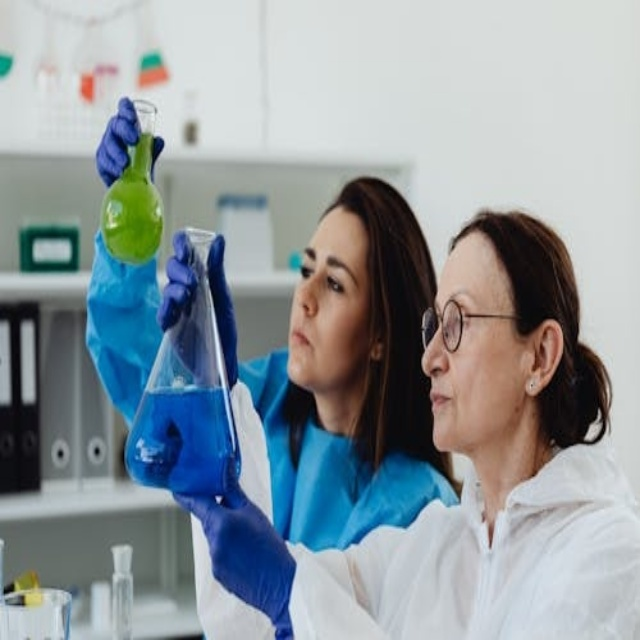Gafas: (419, 299, 524, 353)
Guantes: (172, 452, 301, 619), (156, 225, 244, 388), (87, 81, 172, 186)
Sin_gafas: (297, 246, 362, 306)
Sin_mascara: (424, 384, 463, 450), (284, 319, 324, 379)
